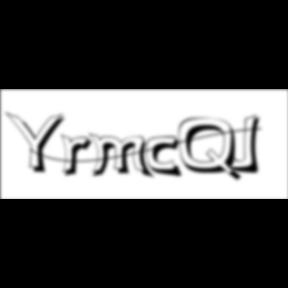J: (227, 114, 266, 176)
Q: (179, 117, 245, 184)
Y: (4, 110, 72, 176)
c: (147, 136, 187, 180)
m: (88, 132, 156, 181)
r: (61, 134, 99, 180)
